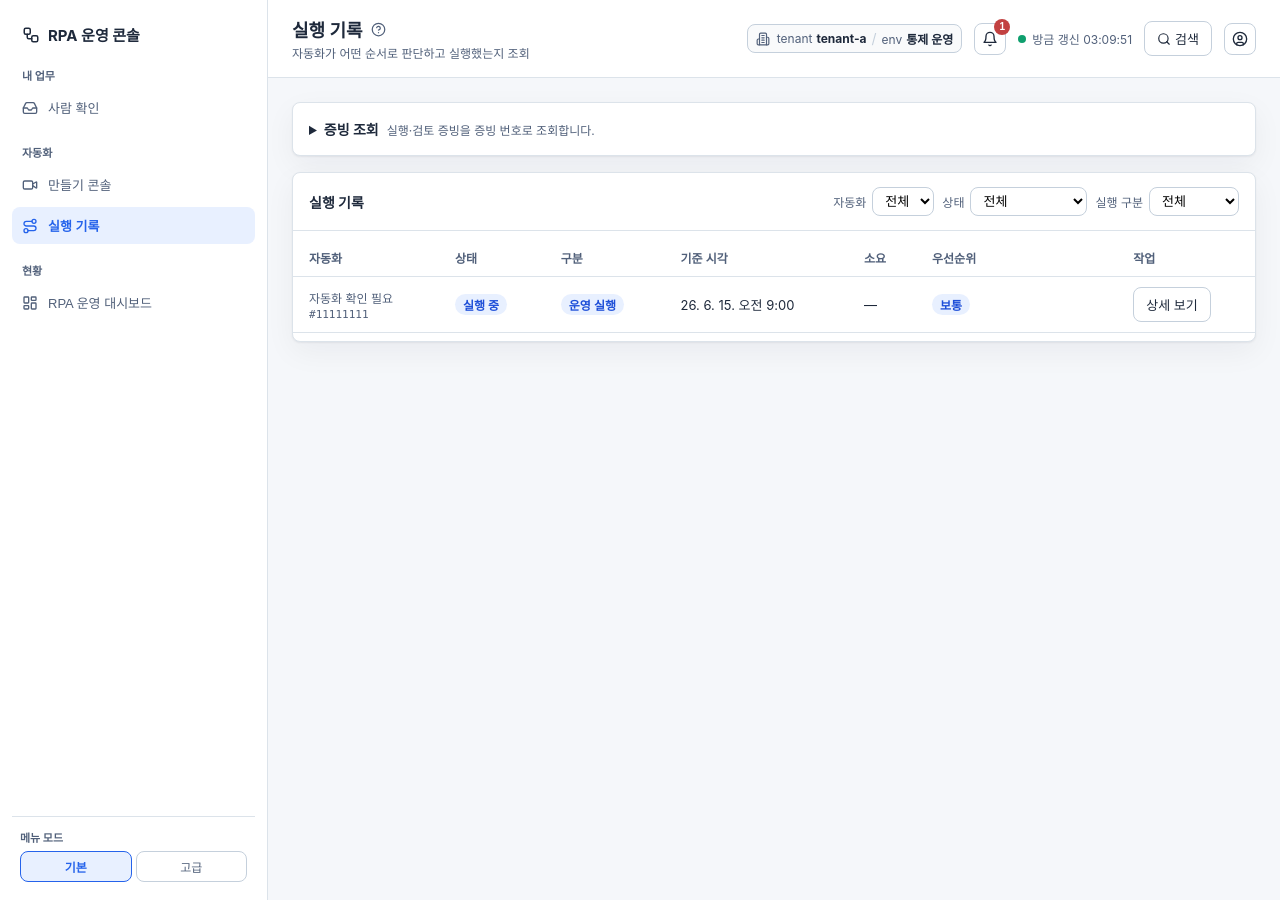
Test: 단계 트레이스 — 셀프힐링 서사 (B) › B2: 바 비례 폭 + null 소요 '—'(no fill)
The image size is (1280, 900).
Click the button with aria-label "실행 추적 상세 보기": (1172, 304) left=1133, top=287, right=1211, bottom=322
(page scrolled)
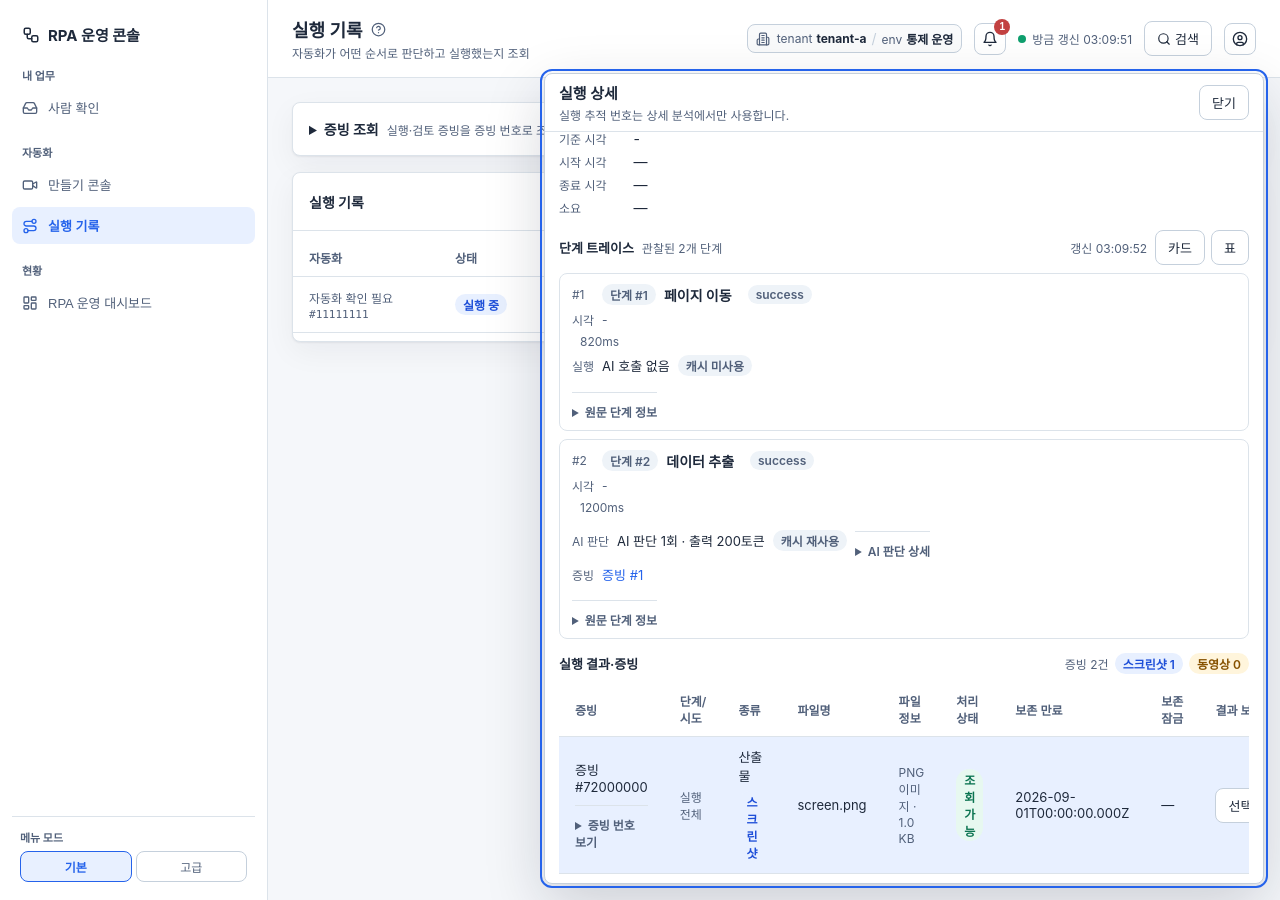
Expected: the text "1200ms" is shown, left=580, top=500, right=624, bottom=515
